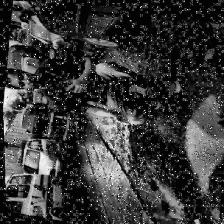pothole: (170, 85, 224, 194), (122, 162, 194, 224)
